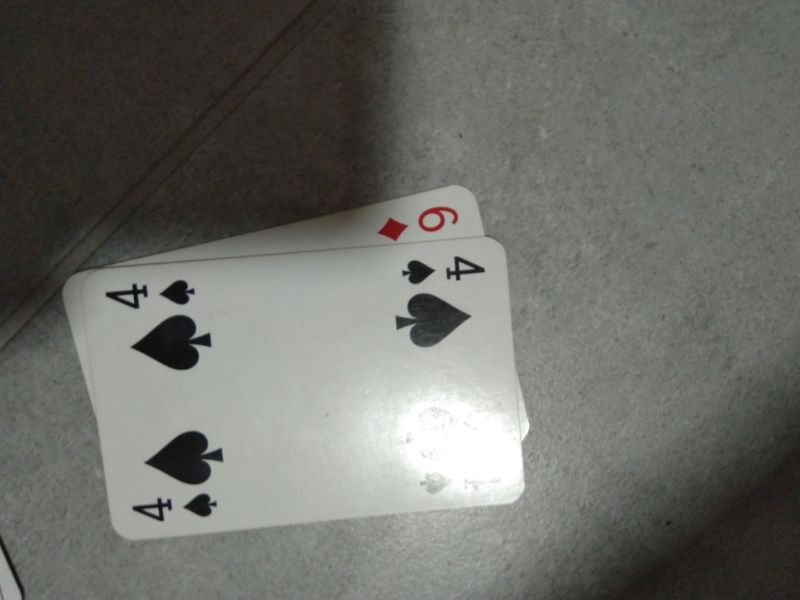4s: (395, 250, 494, 293), (98, 276, 200, 311), (128, 489, 223, 525)
6d: (370, 200, 466, 248)
